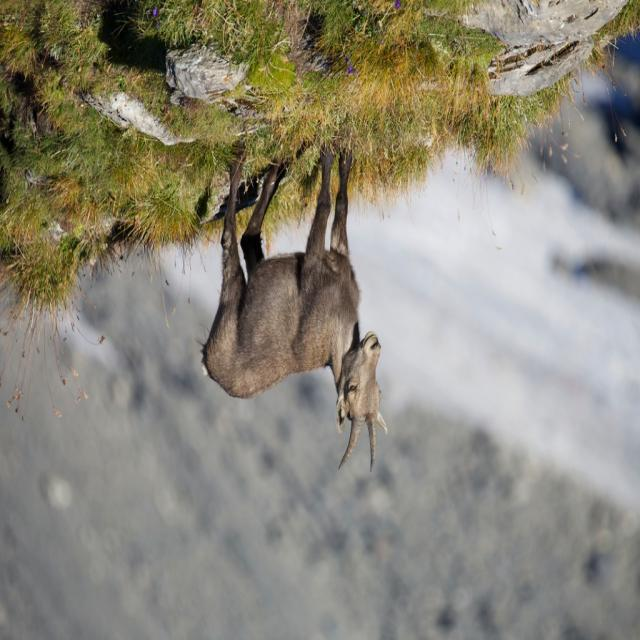Goat: (197, 141, 389, 473)
